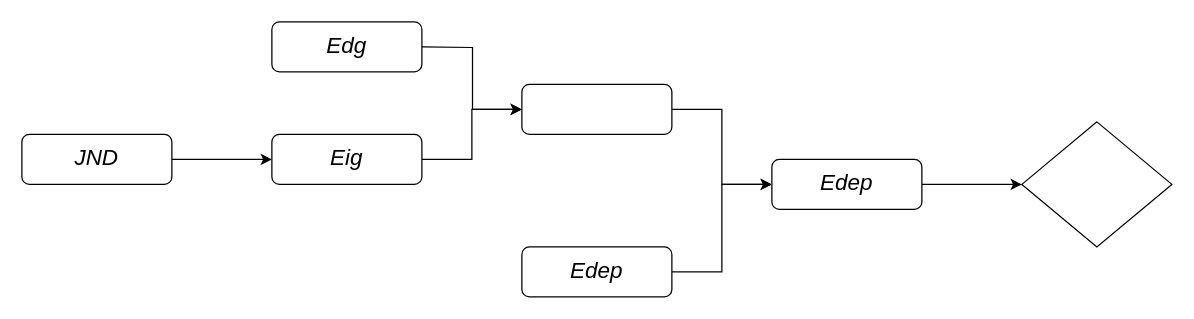
Image size: 1194x319. Some labels were removed from this diagram. Each missing label, with the centre of its shape:
Esig: the point at 596,108
Seam Removal: the point at 1096,184
